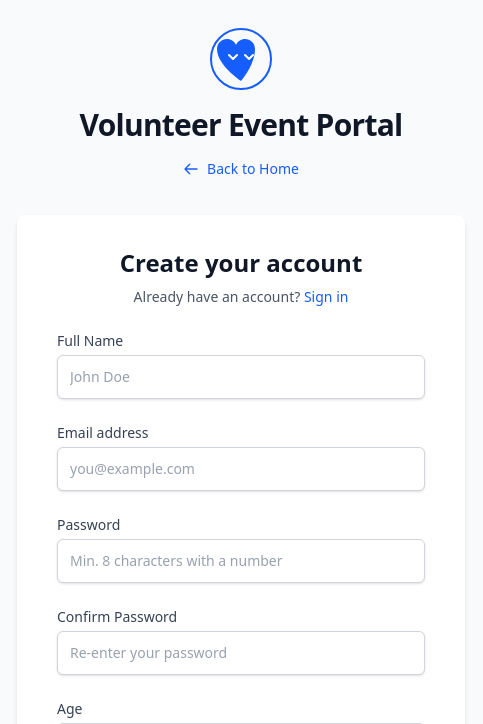
RegisterPage › shows validation error when passwords do not match
The image size is (483, 724).
In the password field labelled "Password": (241, 561) 57,539 -> 425,583, type "password123"
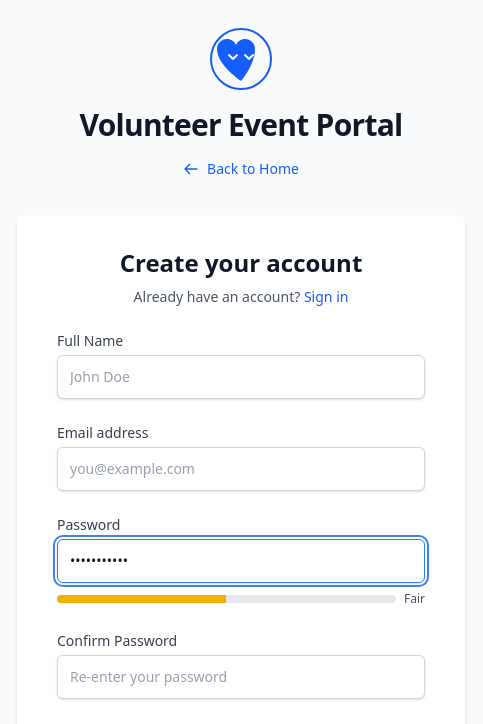
In the password field labelled "Confirm Password": (241, 677) 57,655 -> 425,699, type "password456"
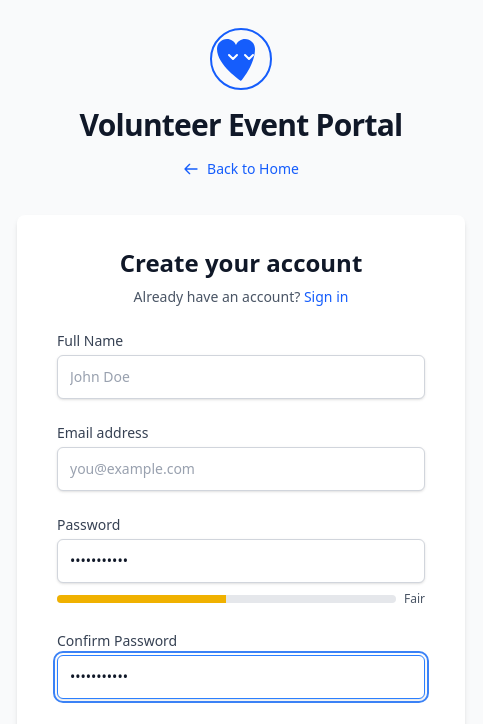
Press Tab
(page scrolled)
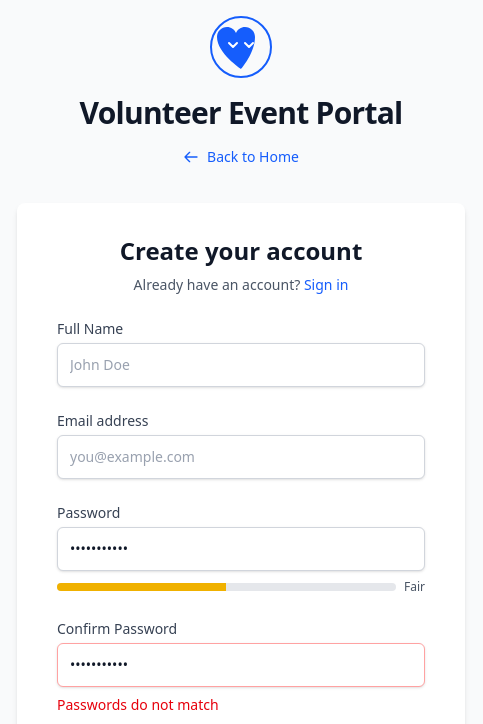
Check: the text "Passwords do not match" is shown, box 57,695 -> 219,714
